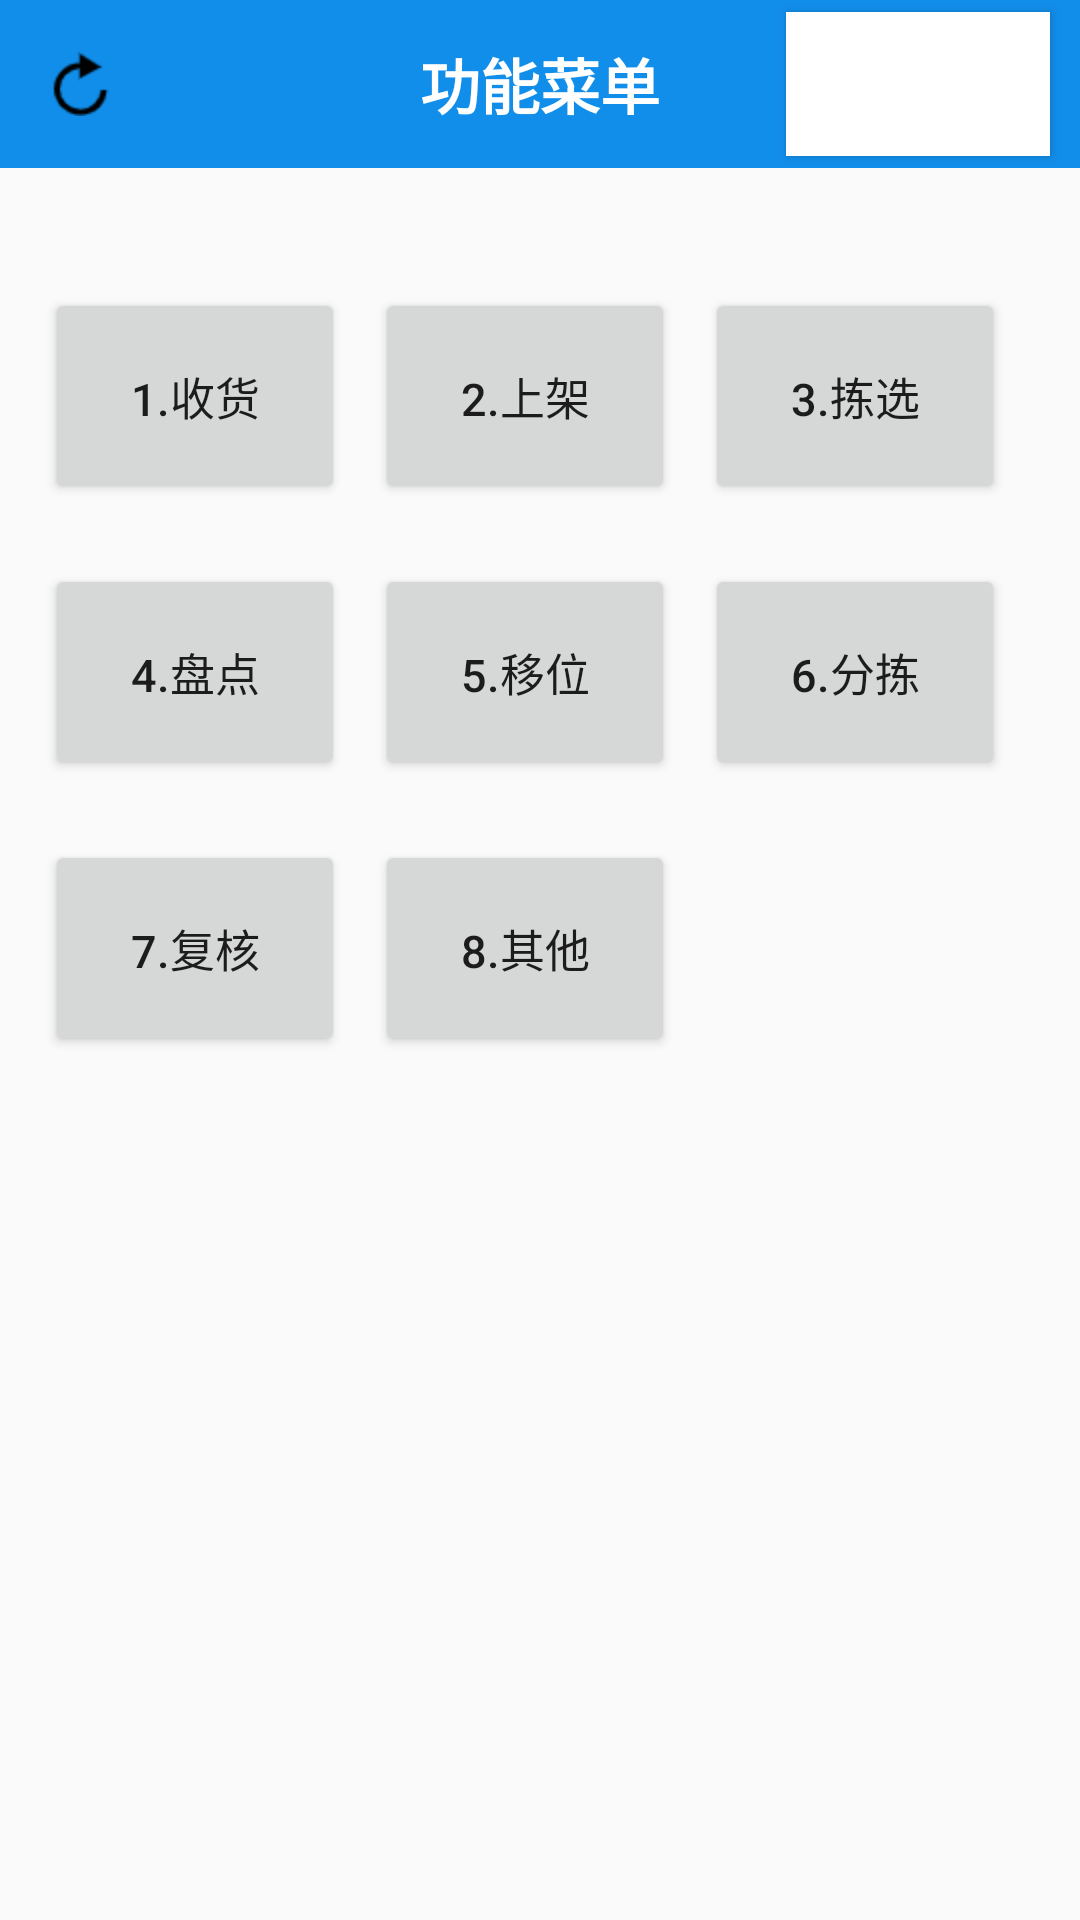

Screen size 1080×1920. Icon name, then its box in pixels as (x1, y1, x2, y2):
refresh: (53, 52, 108, 116)
